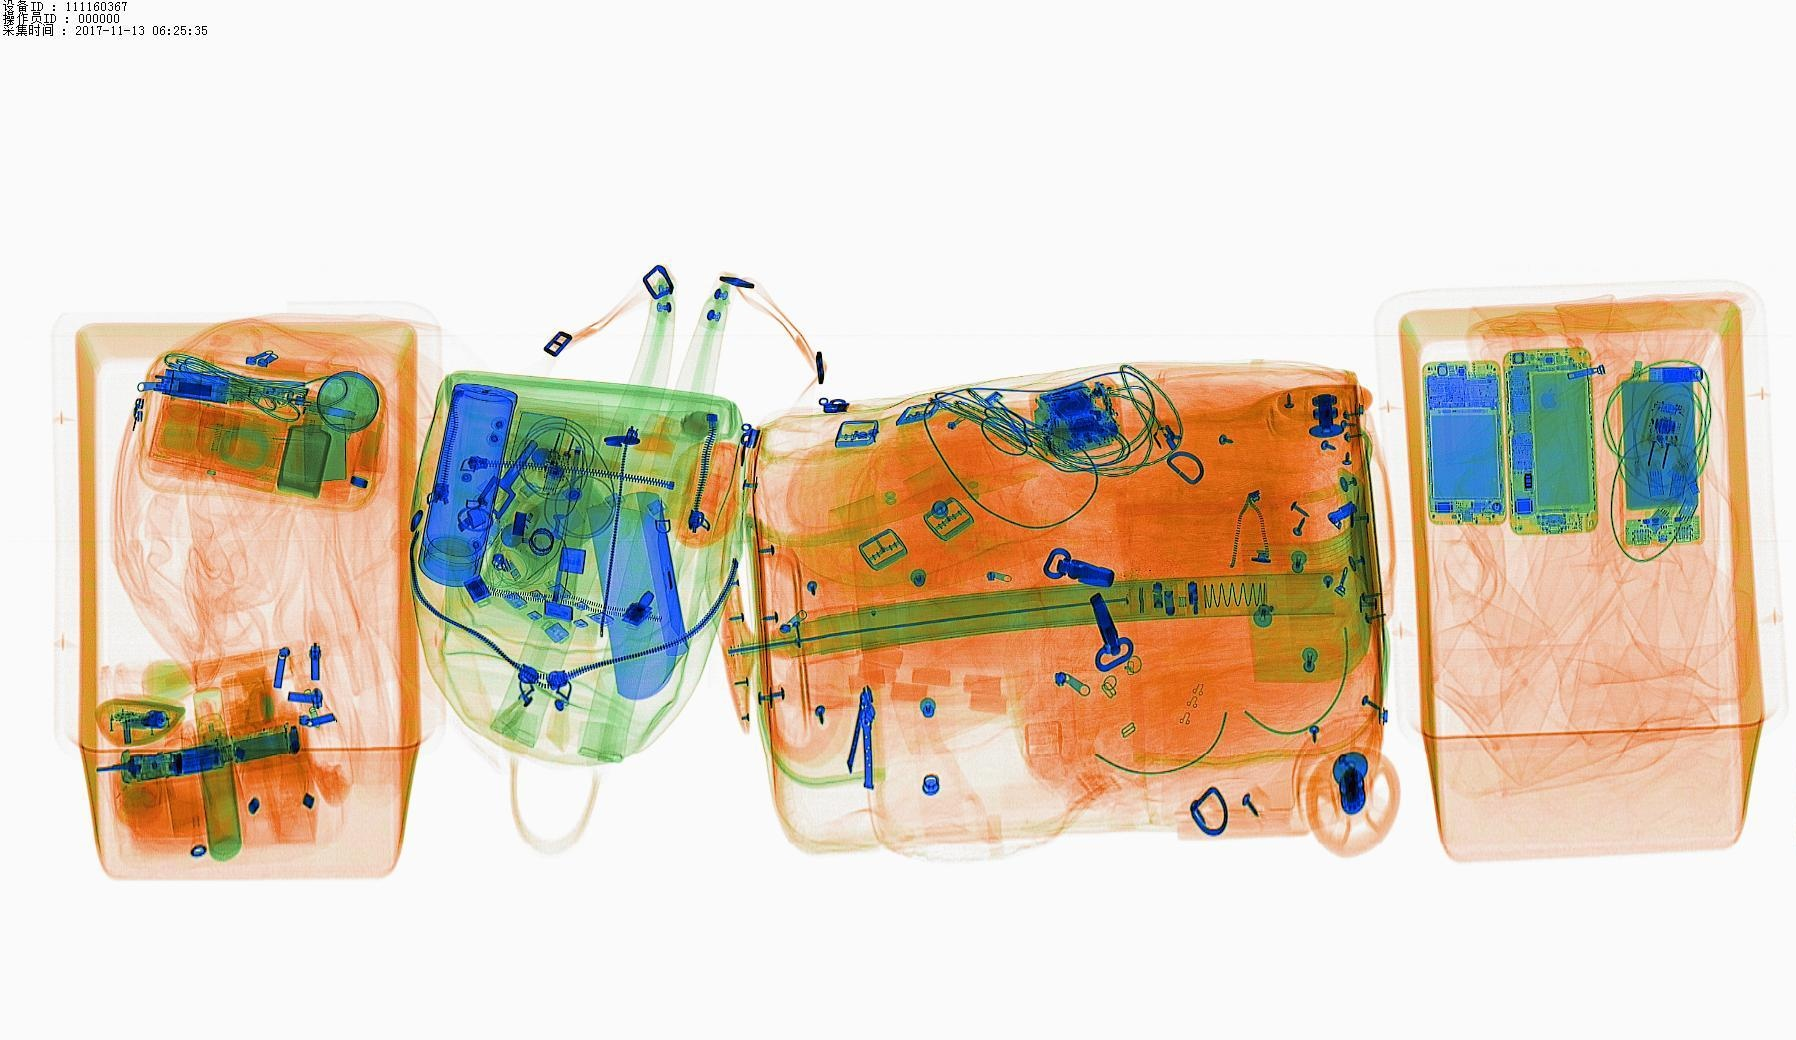coreless: (1625, 379, 1704, 544)
